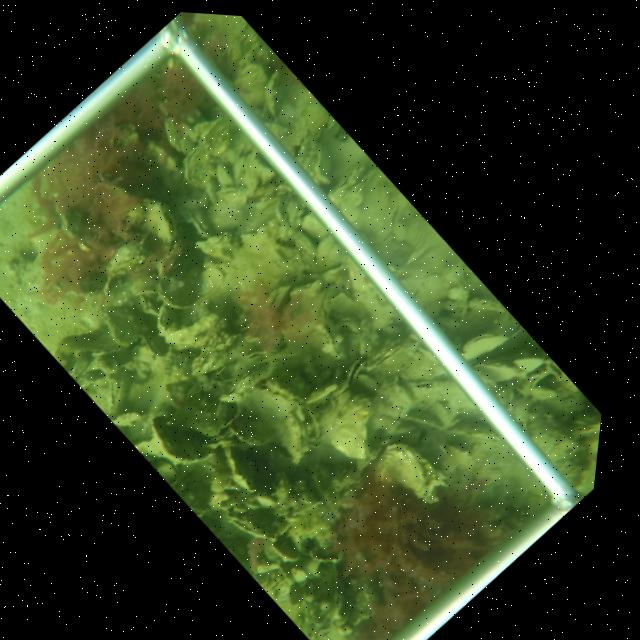Oyster-Closed: (314, 393, 374, 464), (372, 443, 441, 502), (145, 195, 179, 243), (364, 339, 415, 371), (446, 420, 505, 447), (460, 331, 508, 362), (327, 163, 367, 199), (179, 143, 209, 188), (472, 359, 521, 384), (262, 69, 280, 121), (198, 114, 226, 144), (304, 381, 337, 405), (265, 283, 291, 312), (316, 234, 335, 258), (156, 302, 171, 332), (339, 188, 351, 205)
Oyster-Indeterminate: (96, 303, 169, 356), (511, 352, 543, 374)
Oyster-Open: (221, 509, 278, 542), (406, 379, 435, 401), (345, 359, 365, 388)
